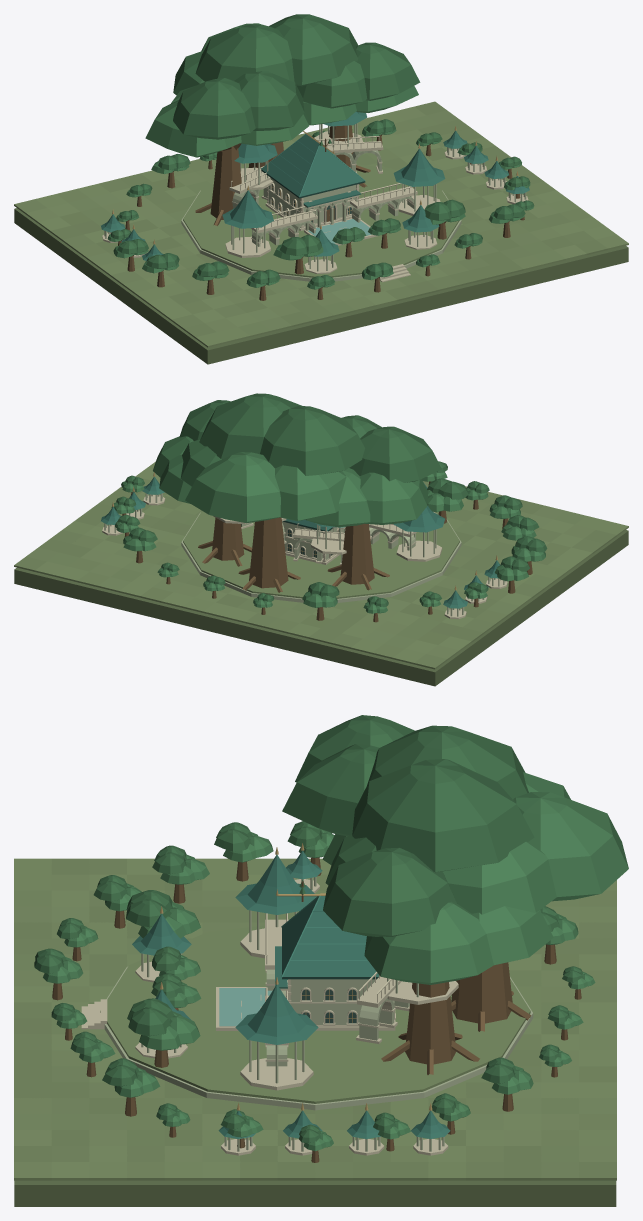
Rendered from forest.glb.
The picture shows the model from 3 angles, top to bottom: view 1: azimuth 30°, elevation 25°; view 2: azimuth 150°, elevation 25°; view 3: azimuth 270°, elevation 25°; orthographic projection. The views are drawn at different scales.
Parts seen in each view (by area): view 1: site, trees, roots, landscape, canopy-walks, court-hall-roof, outer-court, court-hall, canopy-walks-roof, landscape-roof, canopy-walks-ornament, outer-court-roof; view 2: site, trees, landscape, roots, canopy-walks, court-hall, outer-court, landscape-roof, canopy-walks-roof; view 3: site, trees, roots, landscape, outer-court, canopy-walks, court-hall-roof, canopy-walks-roof, court-hall, landscape-roof, canopy-walks-ornament, outer-court-roof.
Boxes of the visible parts, x1,y1,x2,y2 form: site: (14,101,628,364); trees: (145,14,420,225); roots: (181,164,461,281); landscape: (102,119,534,300); canopy-walks: (225,136,440,257); court-hall-roof: (234,111,367,207); outer-court: (273,199,465,282); court-hall: (239,123,362,231); canopy-walks-roof: (222,143,445,228); landscape-roof: (101,126,529,260); canopy-walks-ornament: (332,218,400,257); outer-court-roof: (314,200,439,256); site: (14,461,628,686); trees: (153,393,441,592); landscape: (102,461,547,622); roots: (181,511,461,602); canopy-walks: (241,518,442,564); court-hall: (213,516,346,564); outer-court: (427,478,468,523); landscape-roof: (101,472,500,608); canopy-walks-roof: (393,505,444,532); site: (14,858,616,1206); trees: (282,715,628,1074); roots: (100,925,533,1110); landscape: (34,821,595,1162); outer-court: (81,890,200,1067); canopy-walks: (240,910,409,1090); court-hall-roof: (275,889,378,988); canopy-walks-roof: (235,847,318,1044); court-hall: (280,978,458,1030); landscape-roof: (218,843,450,1139); canopy-walks-ornament: (151,946,201,1010); outer-court-roof: (132,906,191,1019).
Size of the model in its own units: 59.01 by 25.56 by 48.01.
